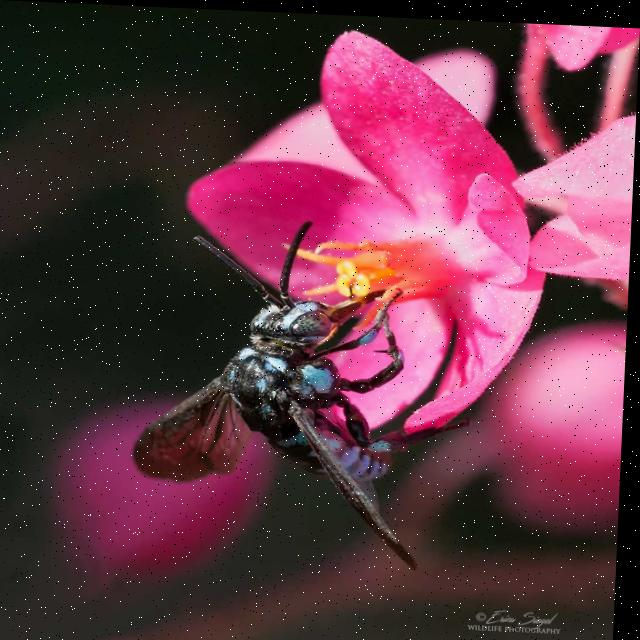Thyreus: (132, 204, 453, 575)
